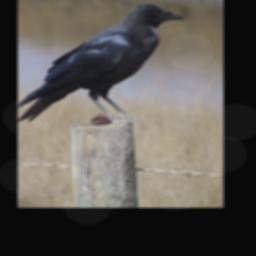Crow: (18, 1, 187, 126)
